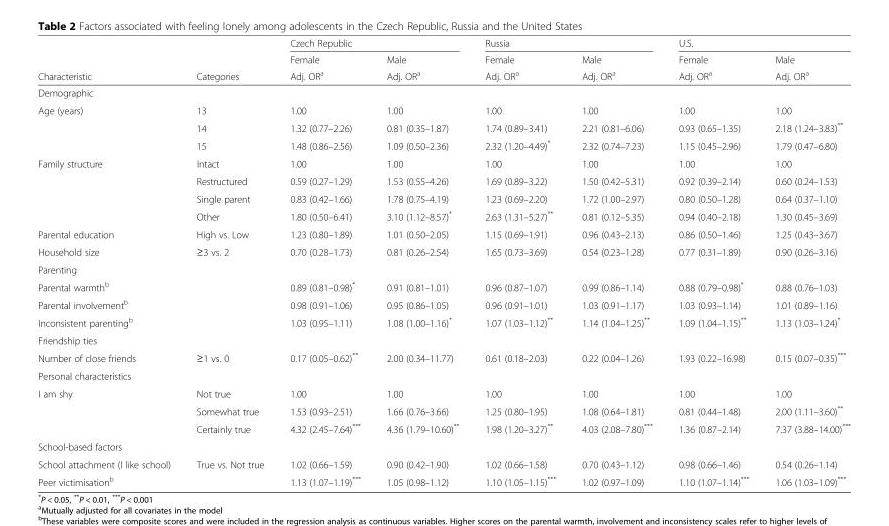table: (37, 36, 849, 487)
table column: (37, 36, 182, 487), (373, 36, 471, 487), (276, 36, 373, 487), (471, 36, 568, 487), (664, 36, 761, 487), (568, 36, 664, 487), (182, 36, 276, 487), (761, 36, 849, 487)
table column header: (37, 36, 849, 84)
table projected row header: (37, 366, 849, 384), (37, 437, 849, 455), (37, 84, 849, 101), (37, 260, 849, 277), (37, 331, 849, 348)
table row: (37, 135, 849, 154), (37, 206, 849, 225), (37, 312, 849, 331), (37, 66, 849, 84), (37, 154, 849, 172), (37, 242, 849, 260), (37, 277, 849, 295), (37, 348, 849, 366), (37, 366, 849, 384), (37, 401, 849, 419), (37, 419, 849, 437), (37, 437, 849, 455), (37, 84, 849, 101), (37, 101, 849, 118), (37, 118, 849, 135), (37, 172, 849, 189), (37, 189, 849, 206), (37, 225, 849, 242), (37, 260, 849, 277), (37, 295, 849, 312), (37, 331, 849, 348), (37, 384, 849, 401), (37, 455, 849, 472), (37, 50, 849, 66), (37, 472, 849, 487), (37, 36, 849, 50)
table spanning cell: (37, 154, 182, 225), (37, 101, 182, 154), (37, 384, 182, 437), (37, 36, 182, 84), (182, 36, 276, 84), (373, 50, 471, 84), (276, 50, 373, 84), (471, 50, 568, 84), (664, 50, 761, 84), (568, 50, 664, 84), (761, 50, 849, 84), (276, 36, 471, 50), (471, 36, 664, 50), (664, 36, 849, 50)
